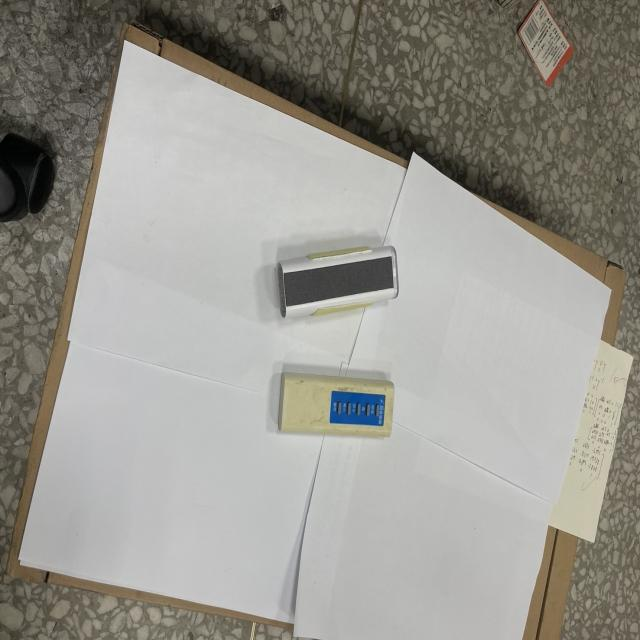remote: (282, 373, 393, 440), (276, 253, 397, 308)
